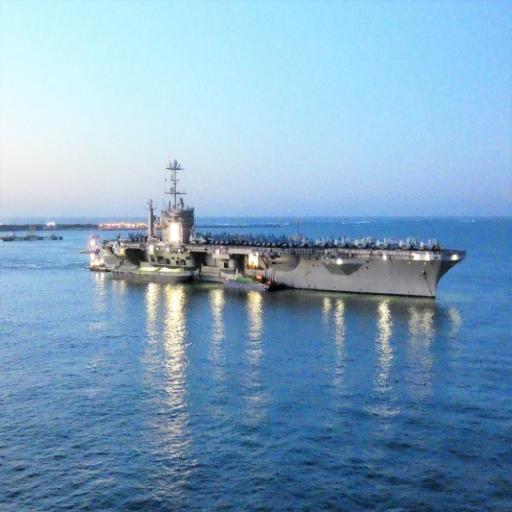Portanaves: (84, 155, 470, 299)
